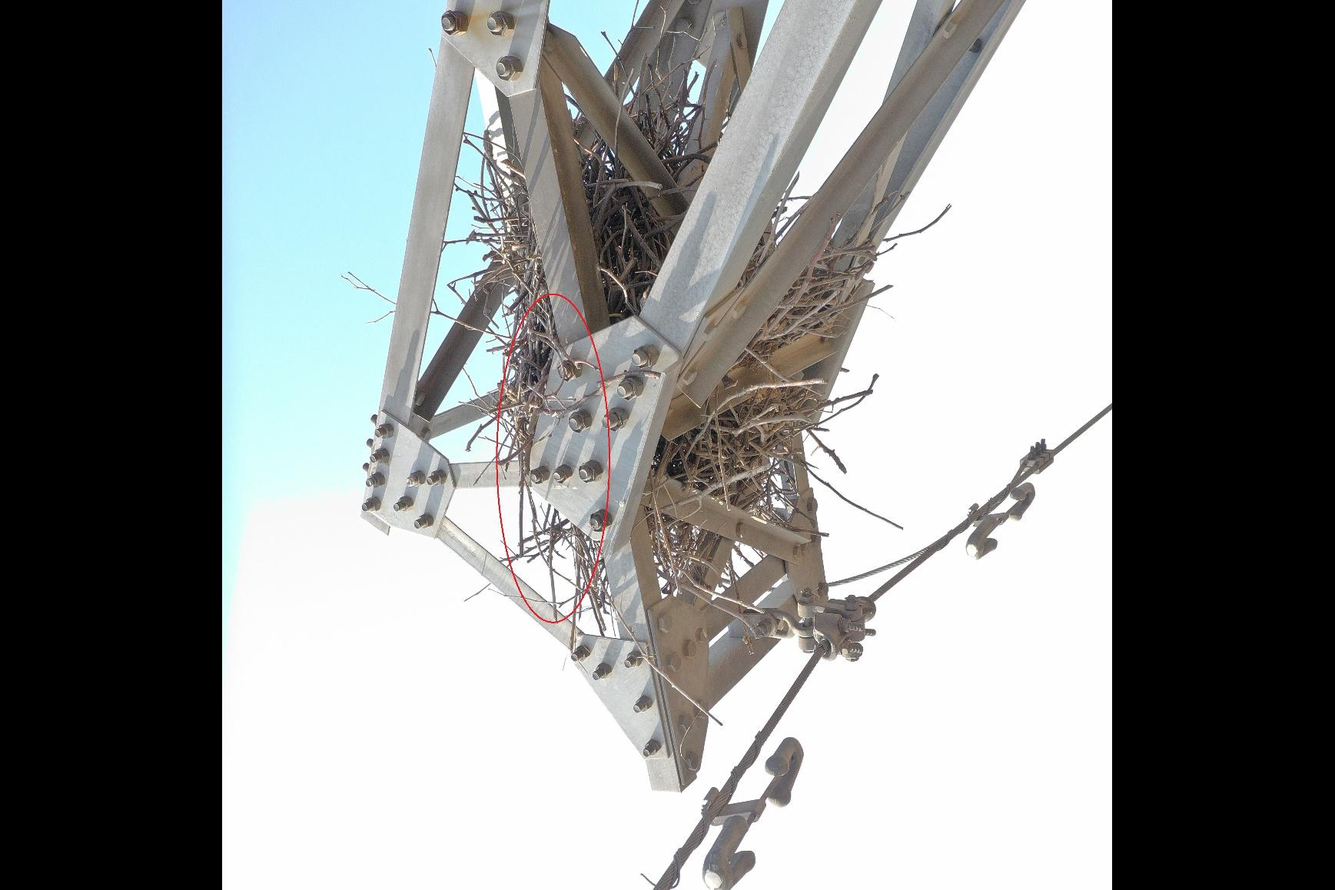damper: (690, 730, 812, 890), (957, 475, 1042, 568)
nest: (459, 58, 870, 606)
